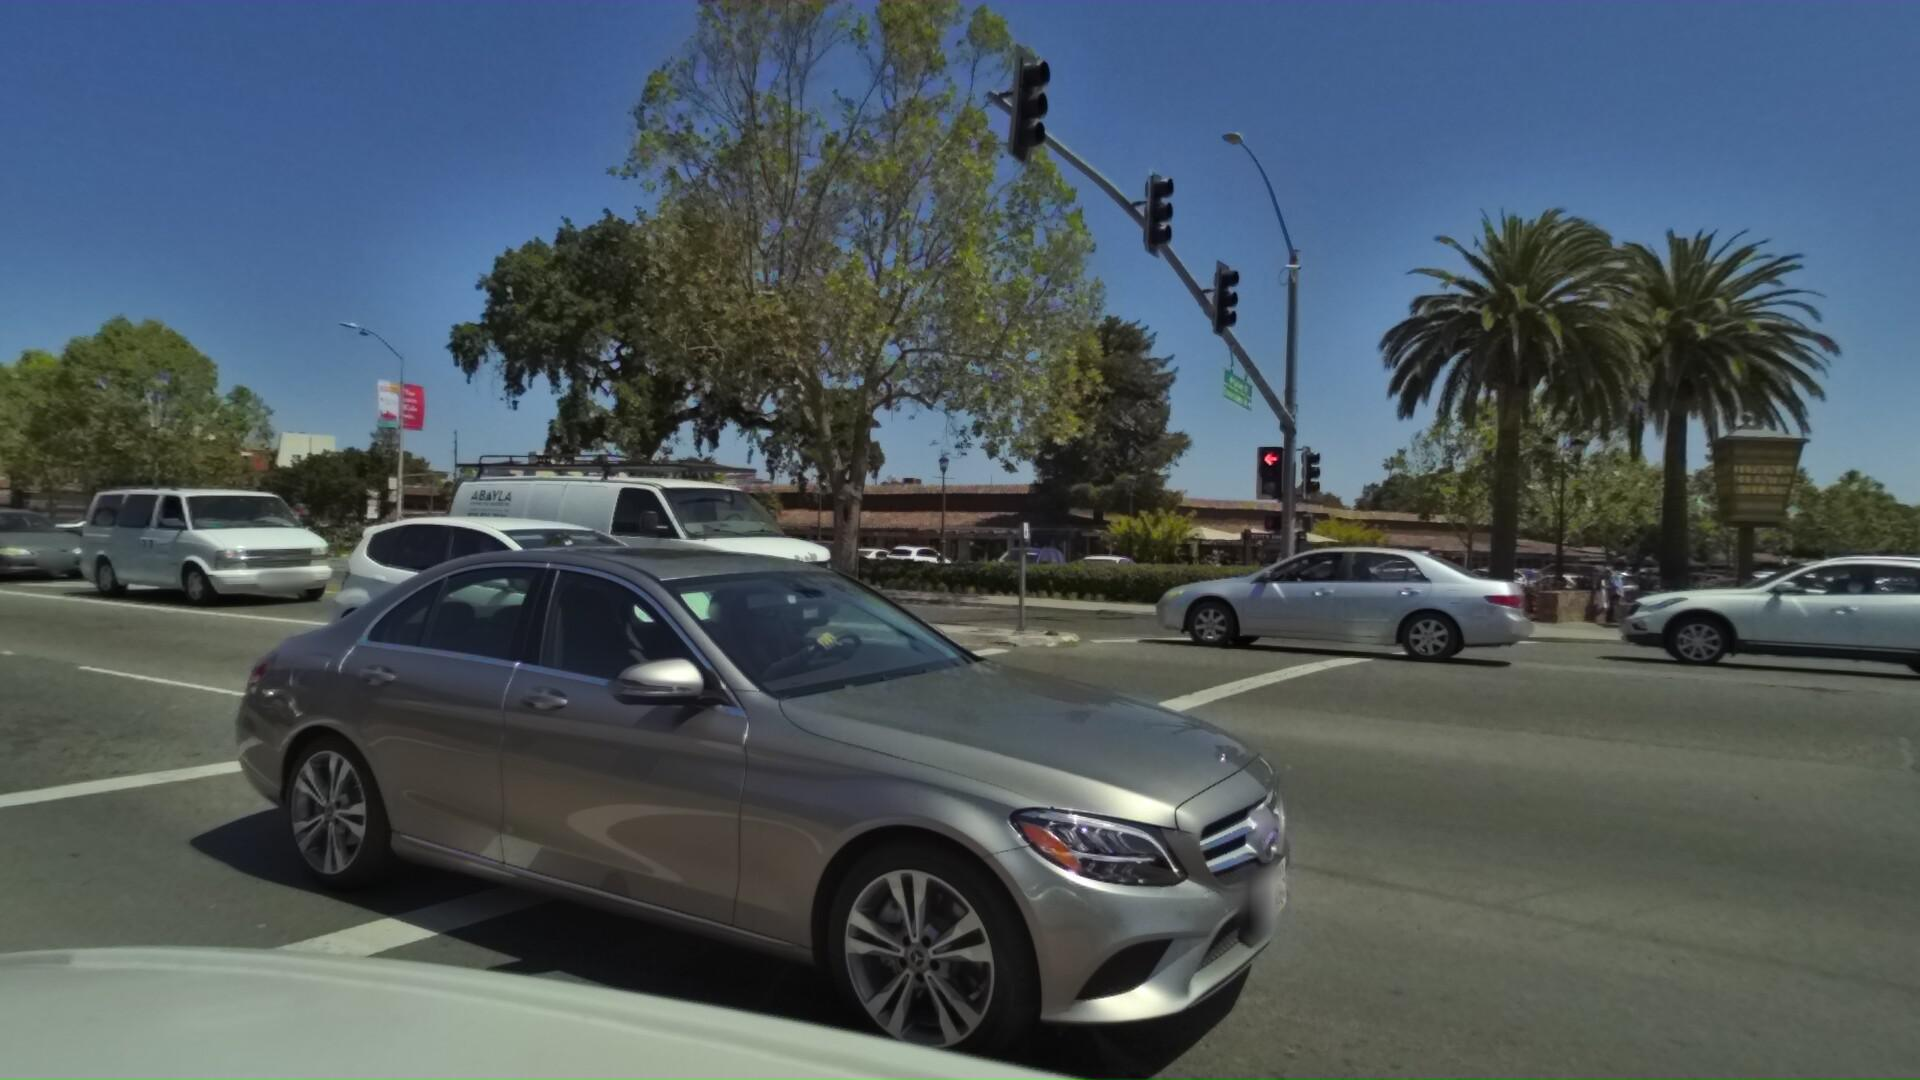car: (169, 506, 1403, 1080), (284, 501, 771, 723), (1538, 541, 1920, 682), (1073, 530, 1456, 666), (62, 477, 343, 609), (0, 505, 102, 582), (1270, 553, 1360, 607), (753, 535, 865, 578), (971, 541, 1065, 588), (1043, 546, 1135, 595), (1880, 568, 1920, 612)
other_vehicle: (404, 436, 835, 658)
